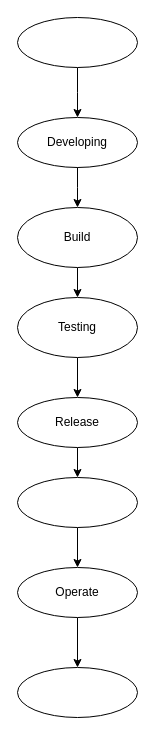
The diagram is 155 pixels wide and 735 high, and some of its shapes have lost their labels. Each missing label, with the centre of its shape:
Deployment: point (77, 502)
Planning: point (77, 42)
